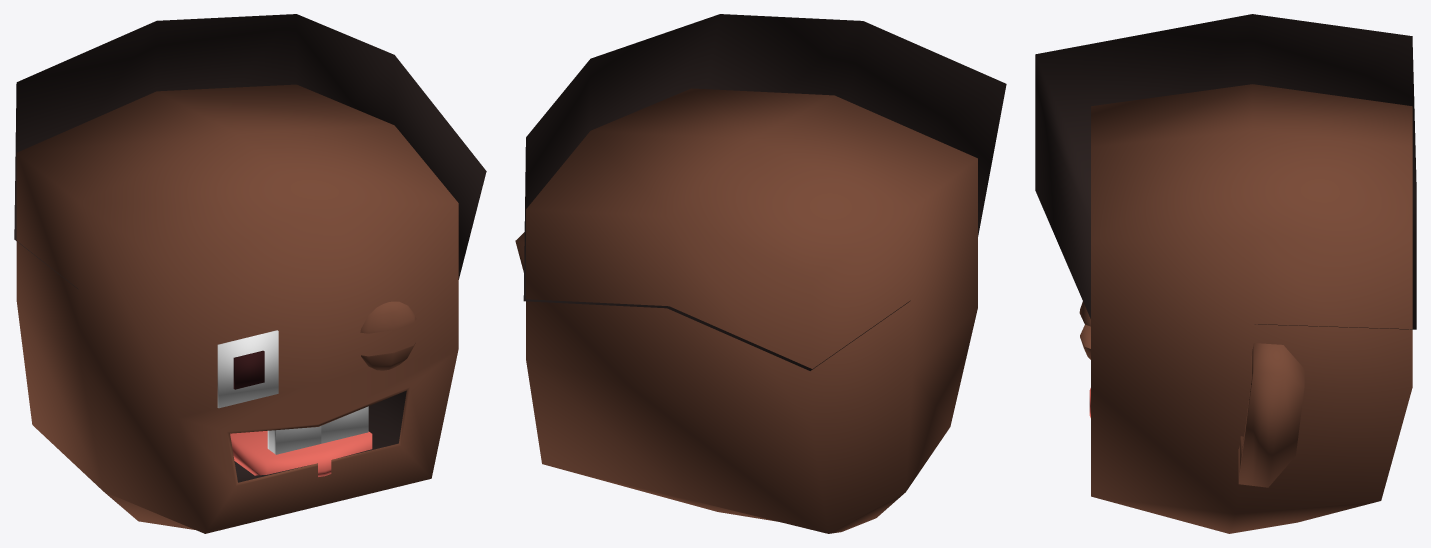
File: theguy.glb
3 views of the same model, side by side, from view 1: azimuth 30°, elevation 25°; view 2: azimuth 150°, elevation 25°; view 3: azimuth 270°, elevation 25° (orthographic). The views are drawn at different scales.
Visible parts, largest first — view 1: Cube, Cube.002, Cube.005, Sphere, Cube.003, Cube.004; view 2: Cube; view 3: Cube, Cube.001.
Boxes of the visible parts, x1,y1,x2,y2 form: Cube: (14,14,486,533); Cube.002: (217,330,278,408); Cube.005: (230,431,372,476); Sphere: (360,301,416,370); Cube.003: (267,426,321,454); Cube.004: (321,406,368,443); Cube: (523,14,1006,533); Cube: (1035,14,1416,533); Cube.001: (1238,343,1304,487).
Size of the model in its own units: 2.66 by 2.88 by 2.37.
